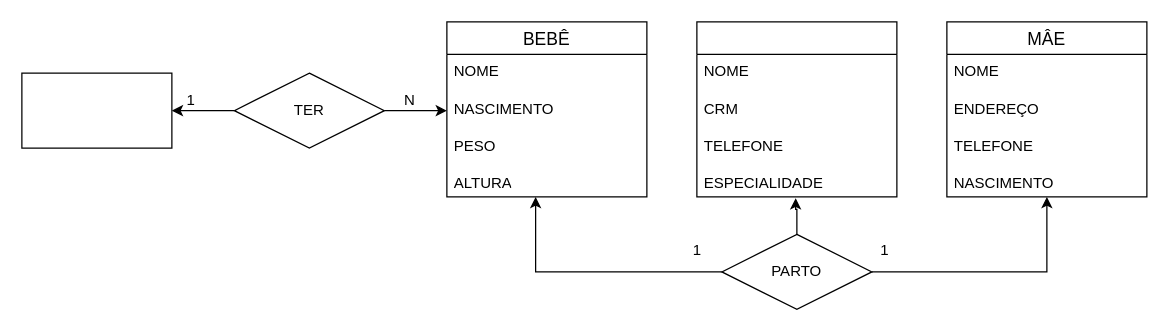
This 1169x331 diagram has some shape labels left out. The box of each missing label's shape, as (x1, y1, x2, y2) in pixels:
BERÇARIO: (21, 72, 172, 148)
MÉDICO: (696, 21, 897, 197)
